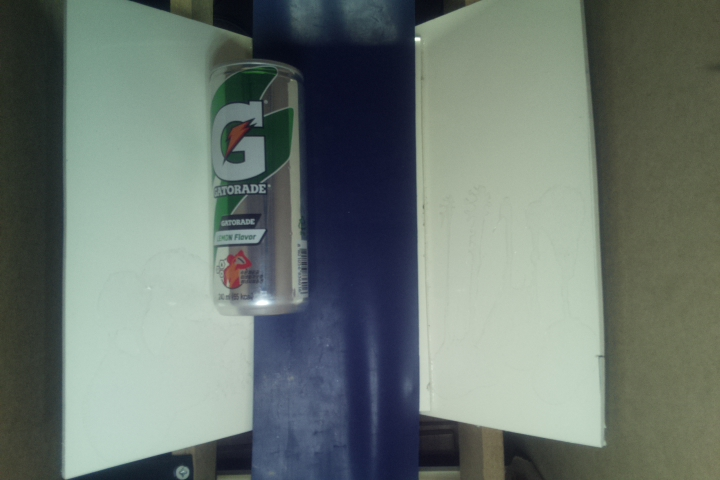can: (208, 60, 311, 319)
